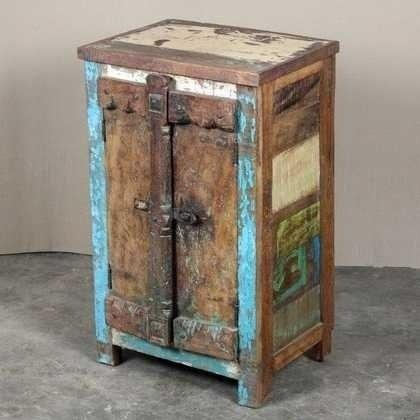cabinet_door: (105, 85, 176, 341), (175, 97, 236, 353)
